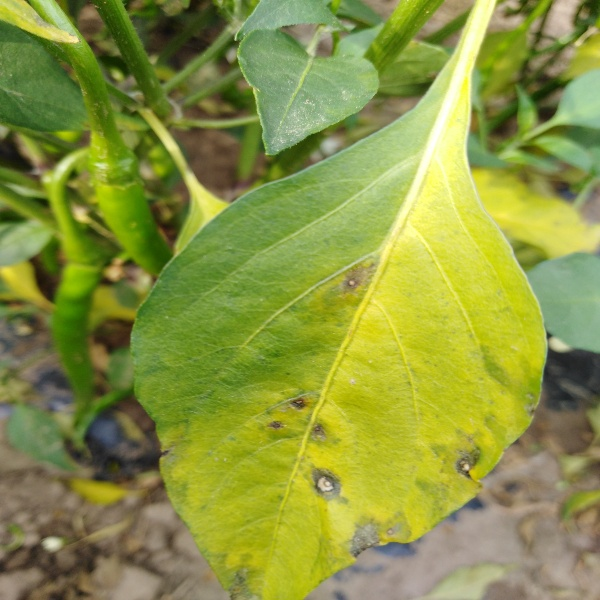Anthrax: (249, 389, 484, 562), (329, 245, 394, 304)
Improper medication: (470, 168, 600, 257)
